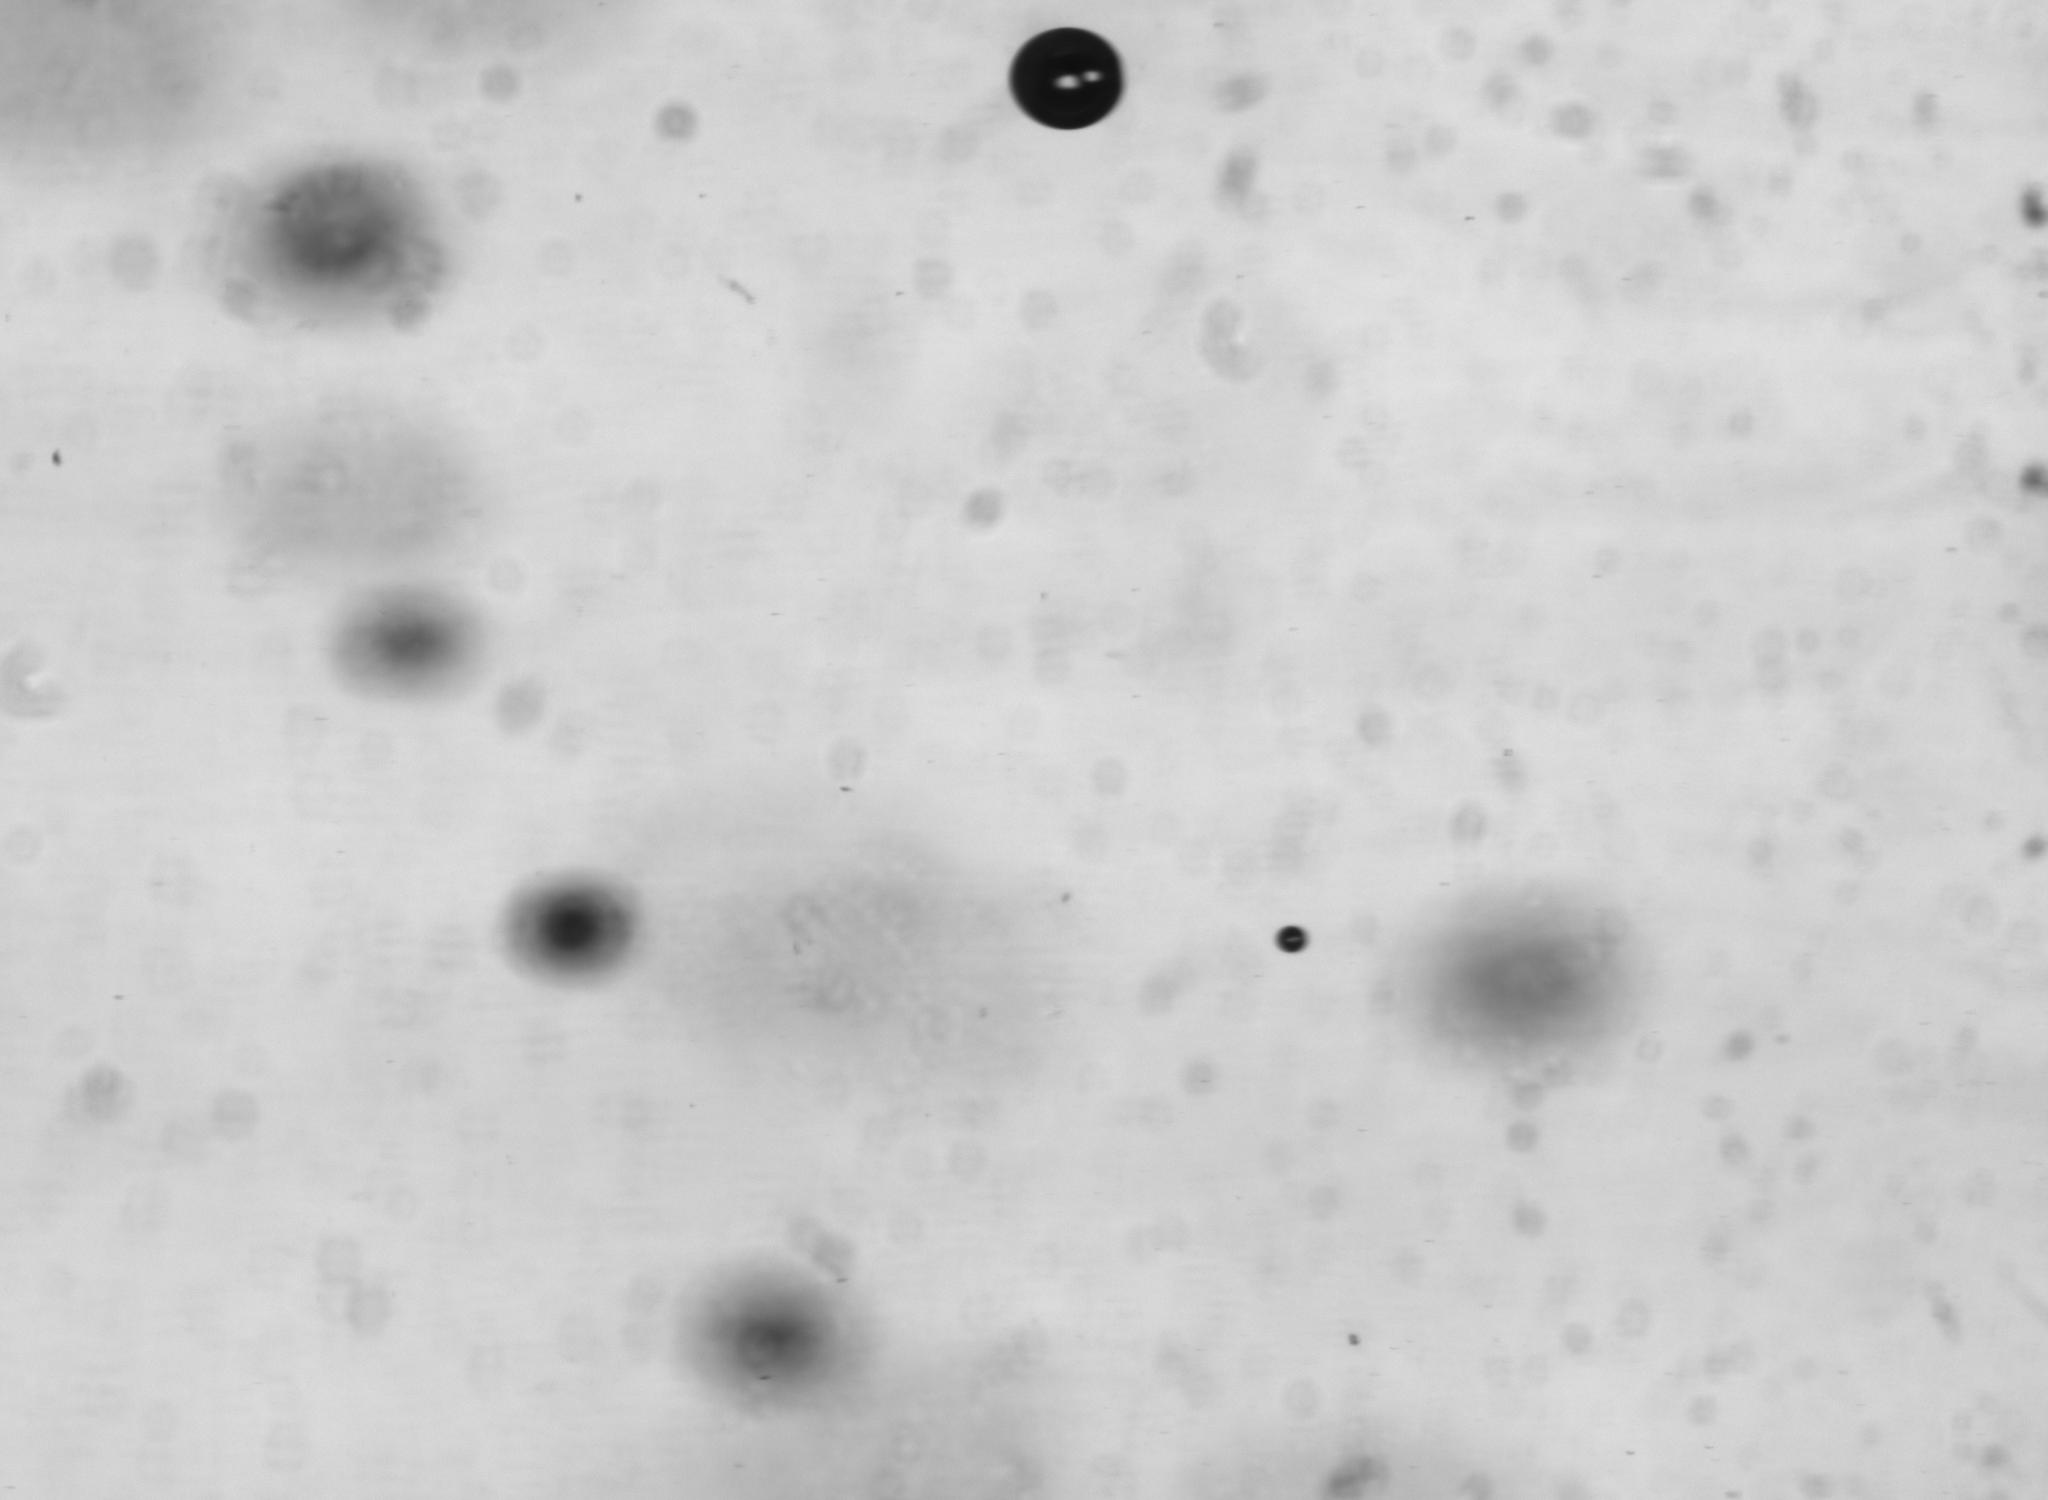bubble: (1010, 29, 1124, 129), (1275, 926, 1307, 951)
